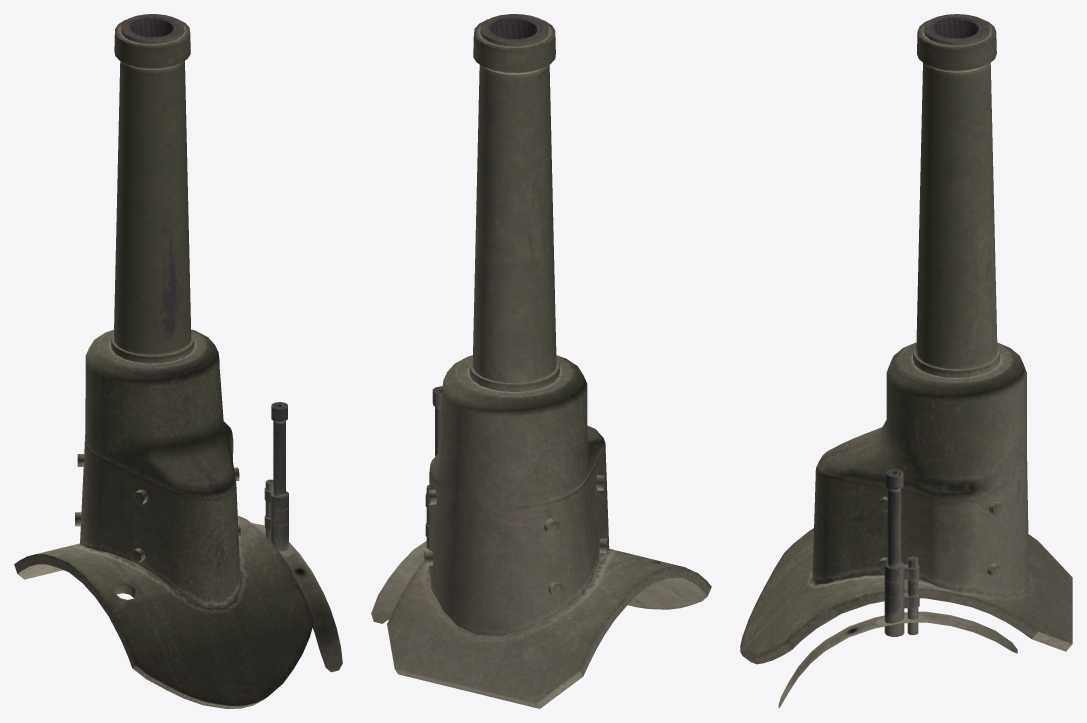
Rendered from Gun_01.glb.
3 views of the same model, side by side, from view 1: azimuth 30°, elevation 25°; view 2: azimuth 150°, elevation 25°; view 3: azimuth 270°, elevation 25° (orthographic). The views are drawn at different scales.
Visible parts, largest first — view 1: set_0_group_0; view 2: set_0_group_0; view 3: set_0_group_0.
Boxes of the visible parts, x1,y1,x2,y2 form: set_0_group_0: (14,14,342,708); set_0_group_0: (371,14,711,708); set_0_group_0: (740,14,1072,708).
Bounding box in the file's own units: 0.4203 × 1.17 × 0.5599.
Materials: 1 (1 with a texture image).
